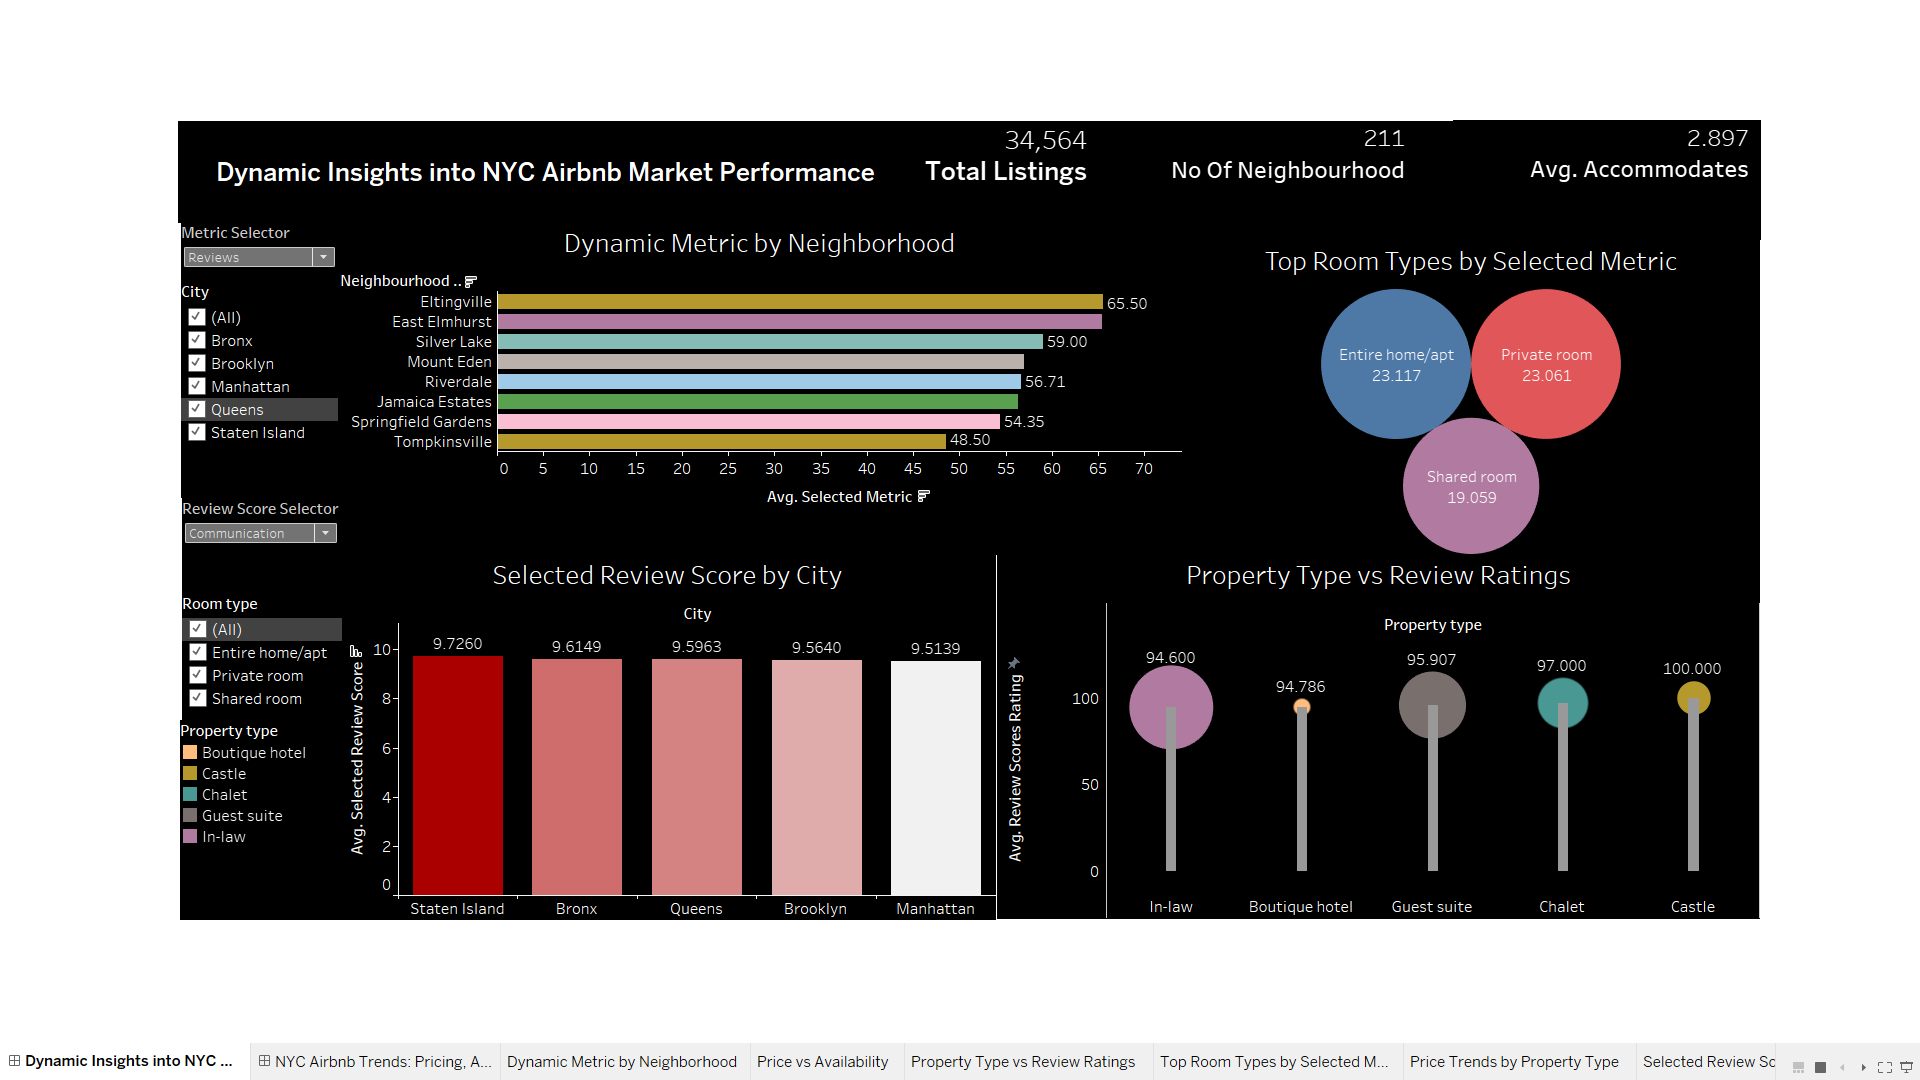

Layout of this report page (visuals, bound fields, positions):
{"tool":"tableau","page":{"name":"Dynamic Insights into NYC Airbnb Market Performance","canvas":[1600,800],"ordinal":0},"visuals":[{"type":"text","box":[18,0,735,102]},{"type":"worksheet","title":"Total Listings","mark":"Automatic","box":[751,0,239,103]},{"type":"worksheet","title":"No Of  Neighbourhood","mark":"Automatic","box":[989,0,305,119]},{"type":"worksheet","title":"Dynamic Metric by Neighborhood","mark":"Automatic","rows":["Neighbourhood_cleansed"],"cols":["Calculation_561542581807714307"],"box":[177,100,845,334]},{"type":"parameter","param":"[Parameters].[Parameter 1]","box":[21,101,157,61]},{"type":"worksheet","title":"Top Room Types by Selected Metric","mark":"Circle","box":[1022,118,578,315]},{"type":"filter","title":"Dynamic Metric by Neighborhood","param":"[federated.0wn813k0bfqdbl12v79vs1kbeu3b].[none:City:nk]","box":[21,160,157,217]},{"type":"parameter","param":"[Parameters].[Parameter 2]","box":[22,377,158,100]},{"type":"worksheet","title":"Selected Review Score by City","mark":"Automatic","rows":["Calculation_561542581808582660"],"cols":["City"],"box":[179,432,657,367]},{"type":"worksheet","title":"Property Type vs Review Ratings","mark":"Line","rows":["Review_Scores_Rating","Review_Scores_Rating"],"cols":["Property_type"],"box":[837,432,763,366]},{"type":"filter","title":"Property Type vs Review Ratings","param":"[federated.0wn813k0bfqdbl12v79vs1kbeu3b].[none:Room_type:nk]","box":[22,472,160,127]},{"type":"legend","title":"Property Type vs Review Ratings","param":"[federated.0wn813k0bfqdbl12v79vs1kbeu3b].[none:Property_type:nk]","box":[20,599,160,200]}]}

Visuals, with their boxes on the page's 1600x800 design canvas (x1, y1, x2, y2). These are canvas units, not pixel positions in the 1920x1080 screenshot, which may show the page scaled, cropped or inside an application window:
text: BBox(18, 0, 753, 102)
"Total Listings" worksheet: BBox(751, 0, 990, 103)
"No Of  Neighbourhood" worksheet: BBox(989, 0, 1294, 119)
"Dynamic Metric by Neighborhood" worksheet: BBox(177, 100, 1022, 434)
parameter: BBox(21, 101, 178, 162)
"Top Room Types by Selected Metric" worksheet (Circle marks): BBox(1022, 118, 1600, 433)
"Dynamic Metric by Neighborhood" filter: BBox(21, 160, 178, 377)
parameter: BBox(22, 377, 180, 477)
"Selected Review Score by City" worksheet: BBox(179, 432, 836, 799)
"Property Type vs Review Ratings" worksheet (Line marks): BBox(837, 432, 1600, 798)
"Property Type vs Review Ratings" filter: BBox(22, 472, 182, 599)
"Property Type vs Review Ratings" legend: BBox(20, 599, 180, 799)
